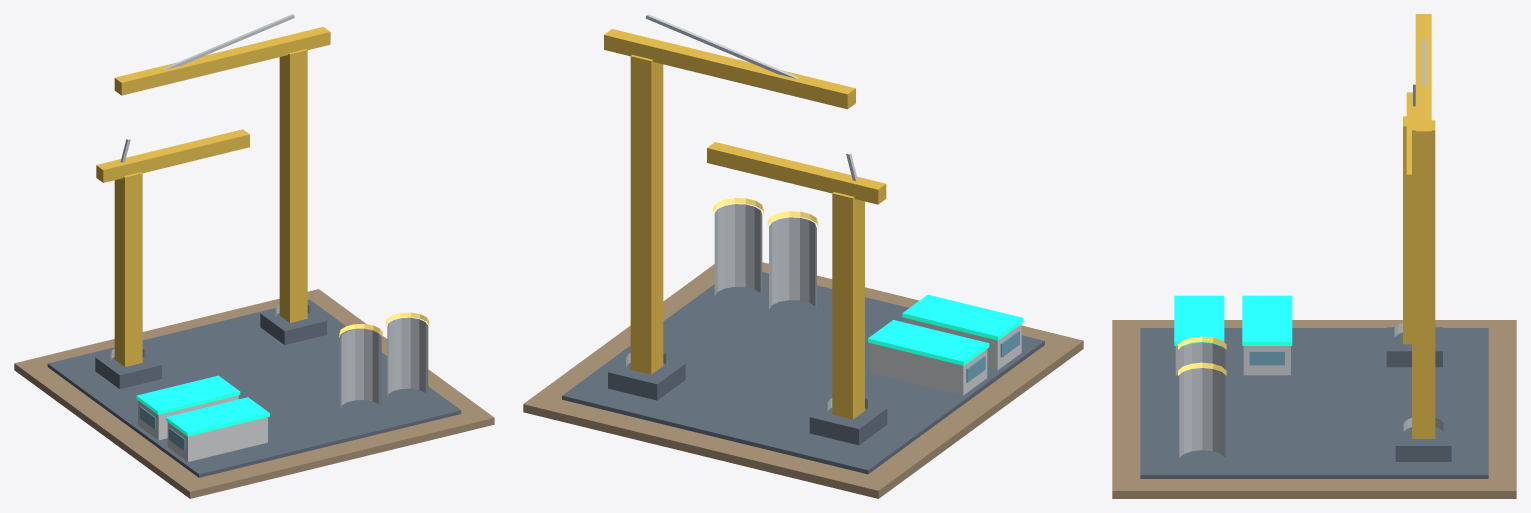
File: construction_crane_site.glb
3 renders of one model, left to right at view 1: azimuth 30°, elevation 25°; view 2: azimuth 150°, elevation 25°; view 3: azimuth 270°, elevation 25°, orthographic. The views are drawn at different scales.
Visible parts, largest first — view 1: construction_crane_site; view 2: construction_crane_site; view 3: construction_crane_site.
Boxes of the visible parts, x1,y1,x2,y2 form: construction_crane_site: (14, 14, 494, 498); construction_crane_site: (523, 14, 1083, 498); construction_crane_site: (1112, 14, 1516, 498).
Bounding box in the file's own units: 2.74 × 2.81 × 2.74.
